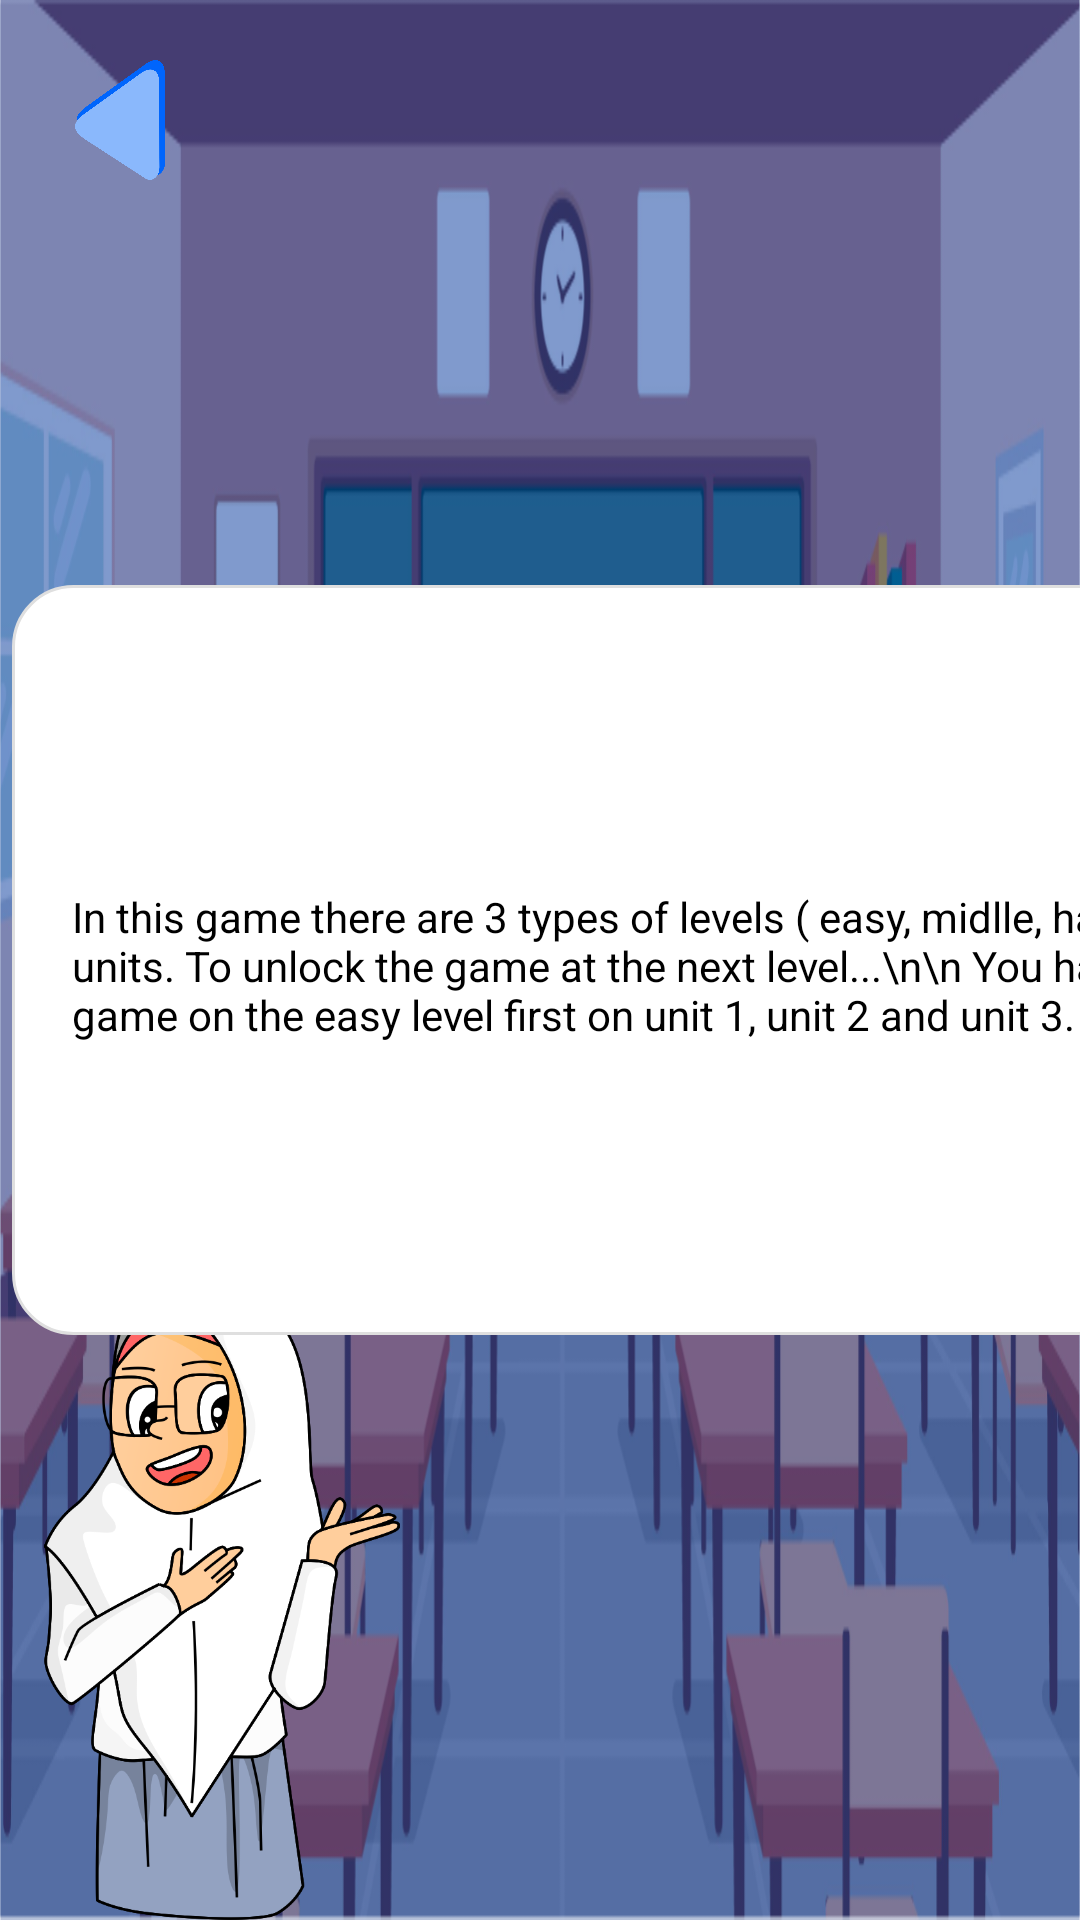

Where to tap for icons on this 1080 × 1920 app screen, as point (x, y):
left arrow: point (120, 120)
